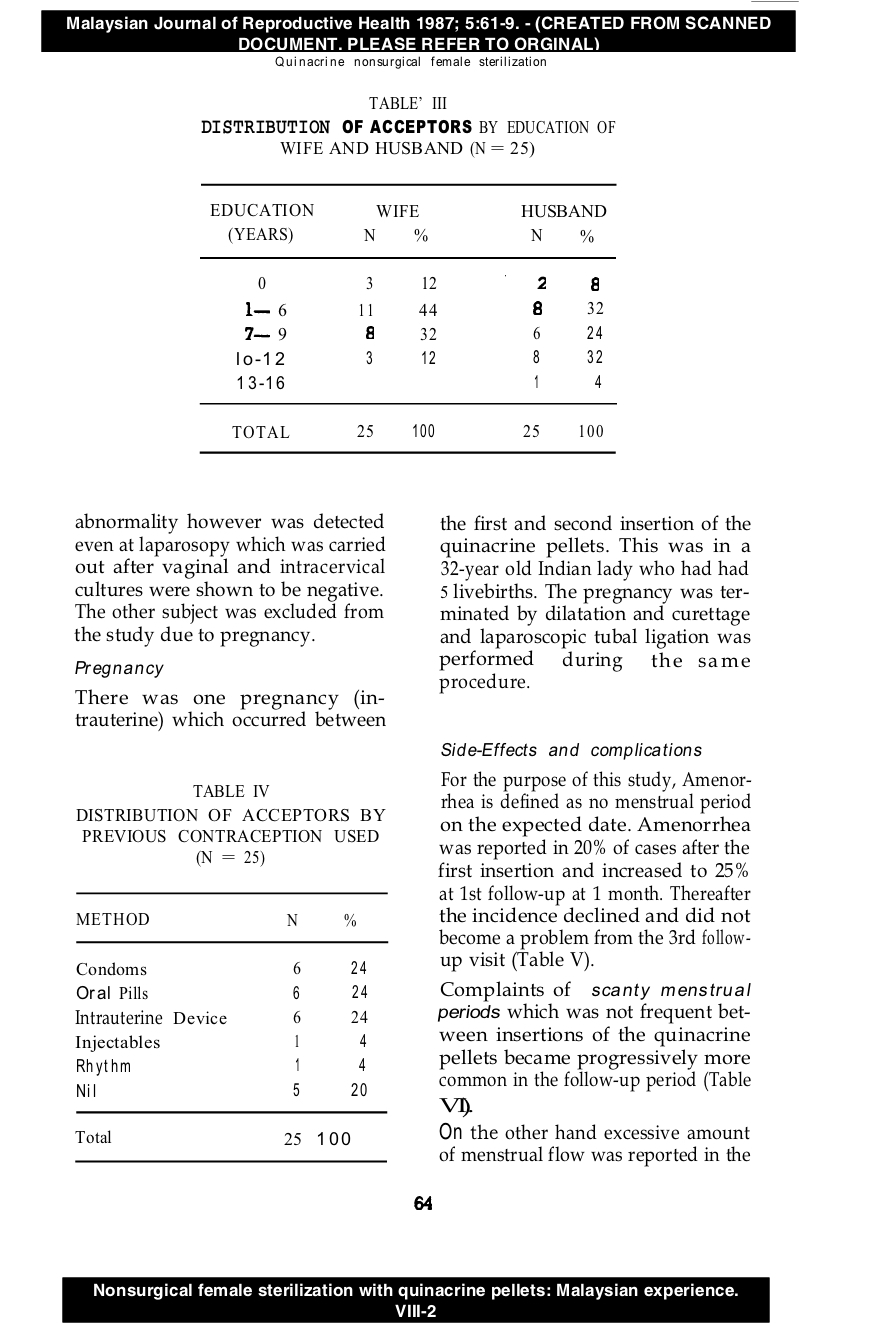Table: (199, 183, 616, 453), (75, 892, 388, 1145)
figure: (62, 1275, 769, 1323), (41, 9, 795, 52)
